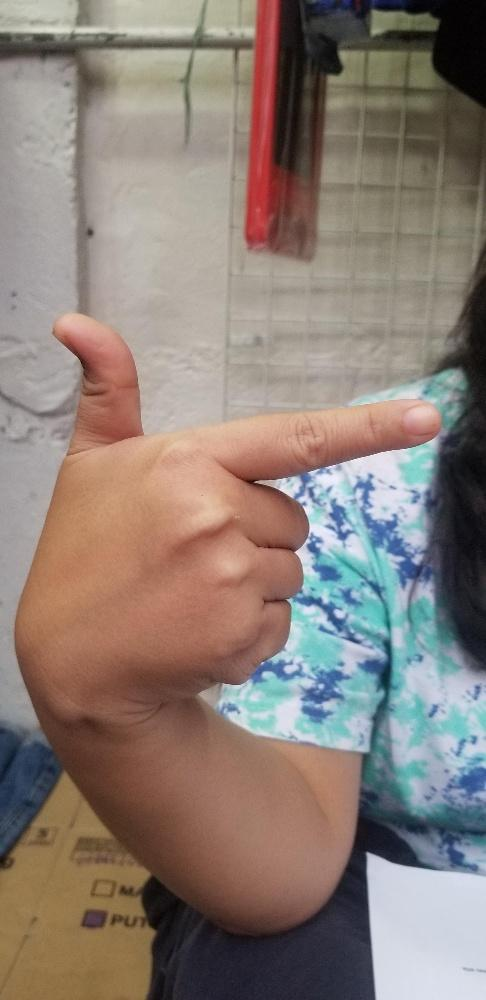g: (39, 310, 439, 703)
